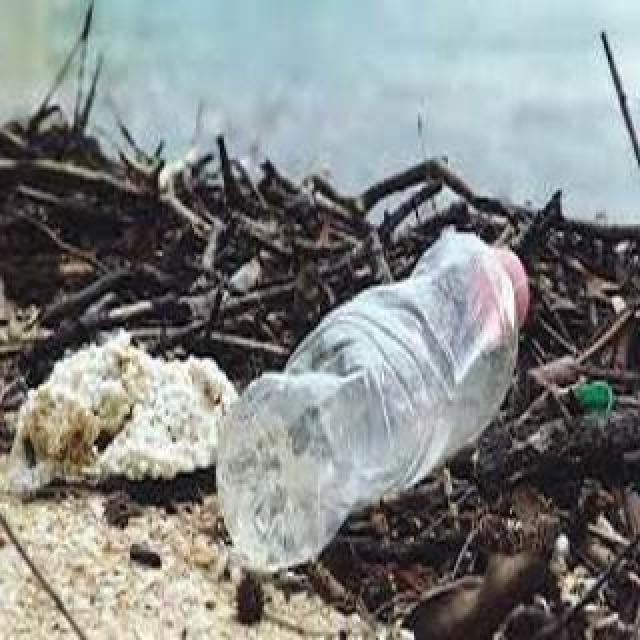Pet_Bottle: (213, 223, 531, 581)
